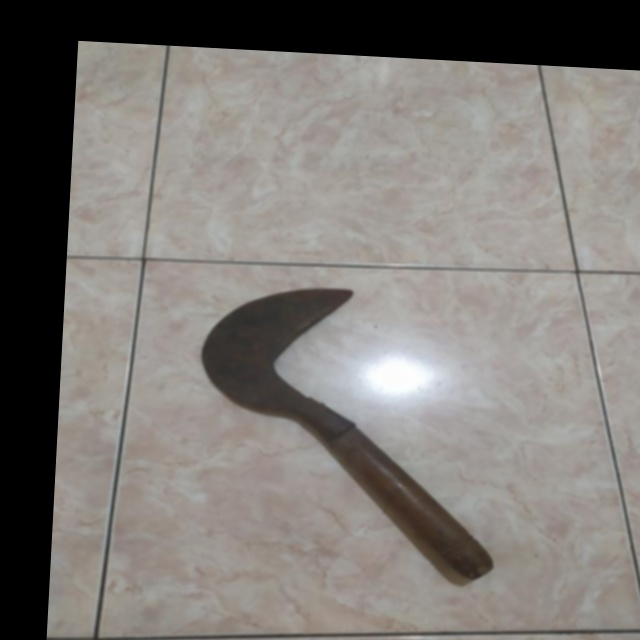Sharp-Object: (179, 269, 515, 581)
